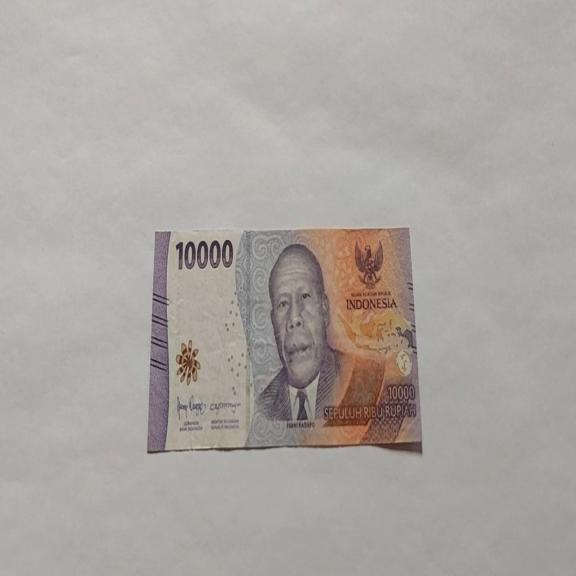Kertas: (147, 225, 423, 454), (174, 237, 234, 271)
